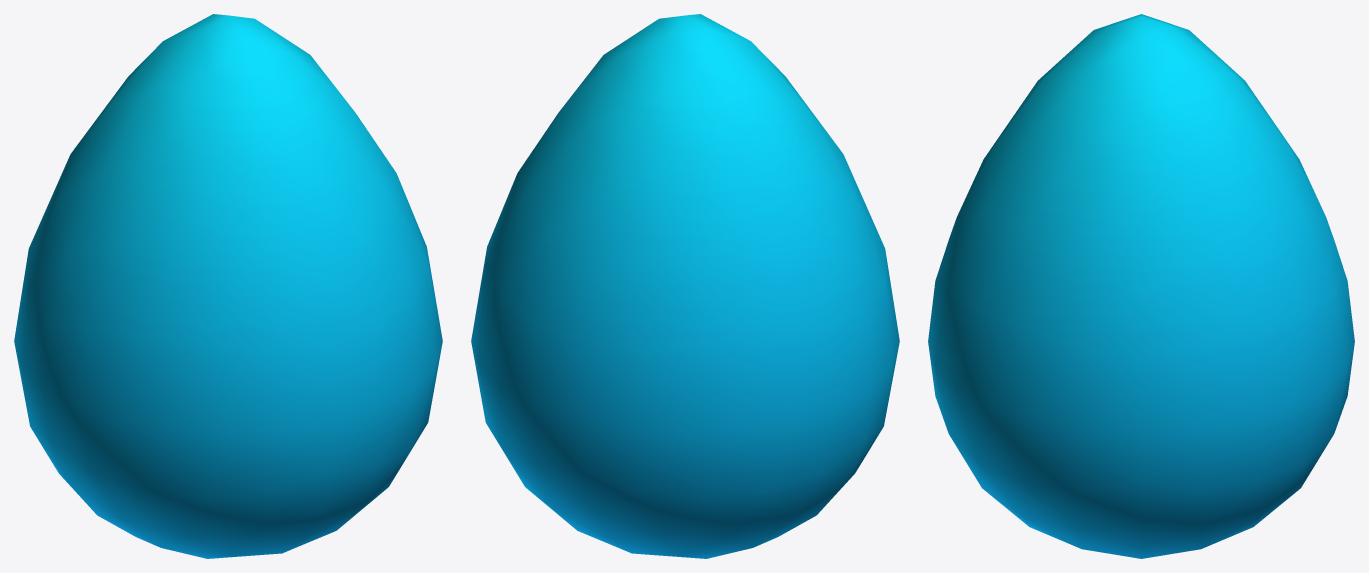
File: WaterDrop.FBX
3 renders of one model, left to right at view 1: azimuth 30°, elevation 25°; view 2: azimuth 150°, elevation 25°; view 3: azimuth 270°, elevation 25°, orthographic.
Parts seen in each view (by area): view 1: WaterDrop; view 2: WaterDrop; view 3: WaterDrop.
Part boxes in pixels (bbox=[...]): WaterDrop: bbox=[14, 14, 442, 558]; WaterDrop: bbox=[471, 14, 899, 558]; WaterDrop: bbox=[928, 14, 1354, 558].
Bounding box in the file's own units: 66.22 × 89.46 × 66.22.
